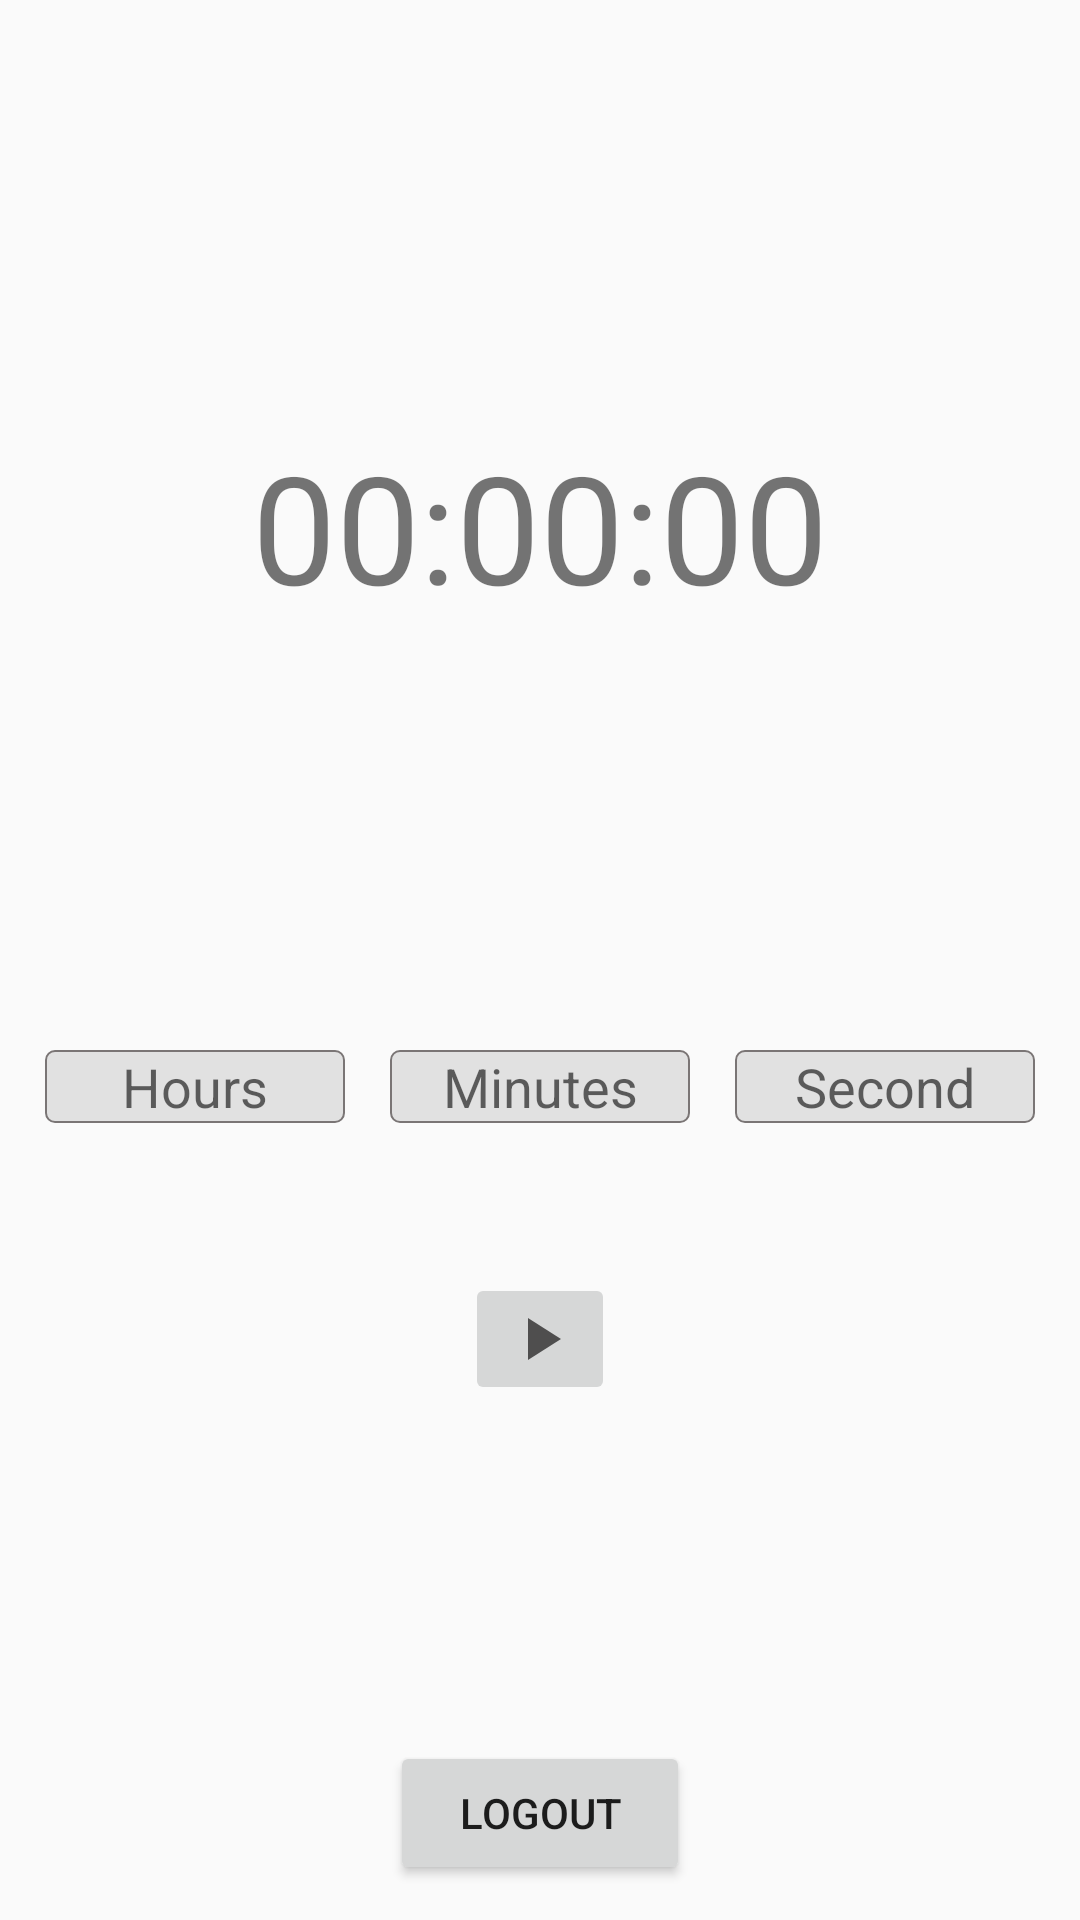

Icons on this 1080 × 1920 Android screen, each with the point to tap as (x=x, y=y):
play arrow: (x=540, y=1339)
